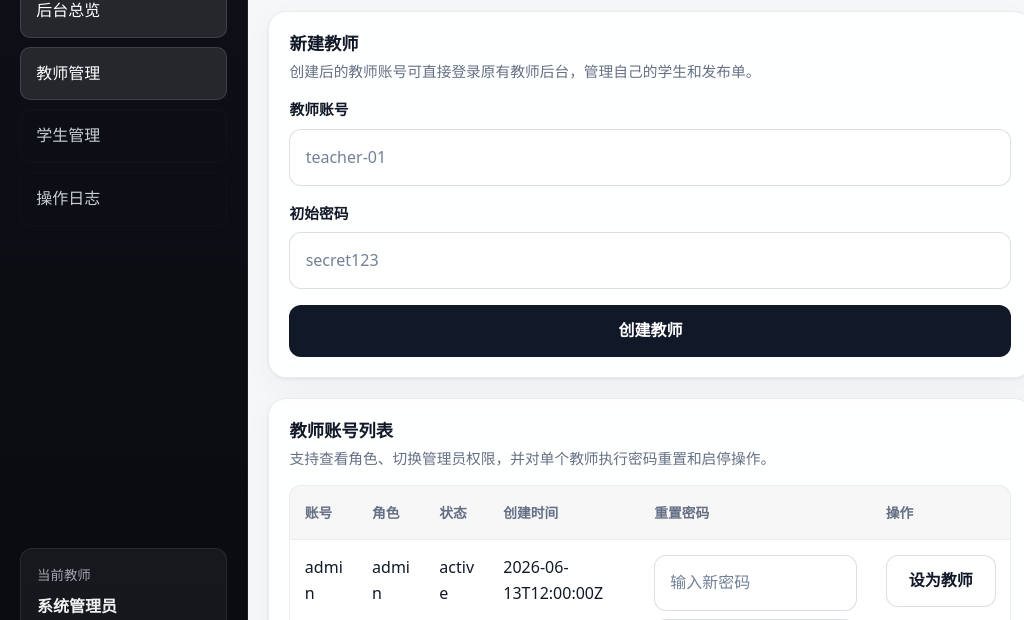
Test: AdminTeachersView › renders managed teachers and allows creating and disabling a teacher
The width and height of the screenshot is (1024, 620).
Type "teacher-1" into the field named "teacher-username".
click(650, 157); type("teacher-1")  # box [290,129,1012,186]
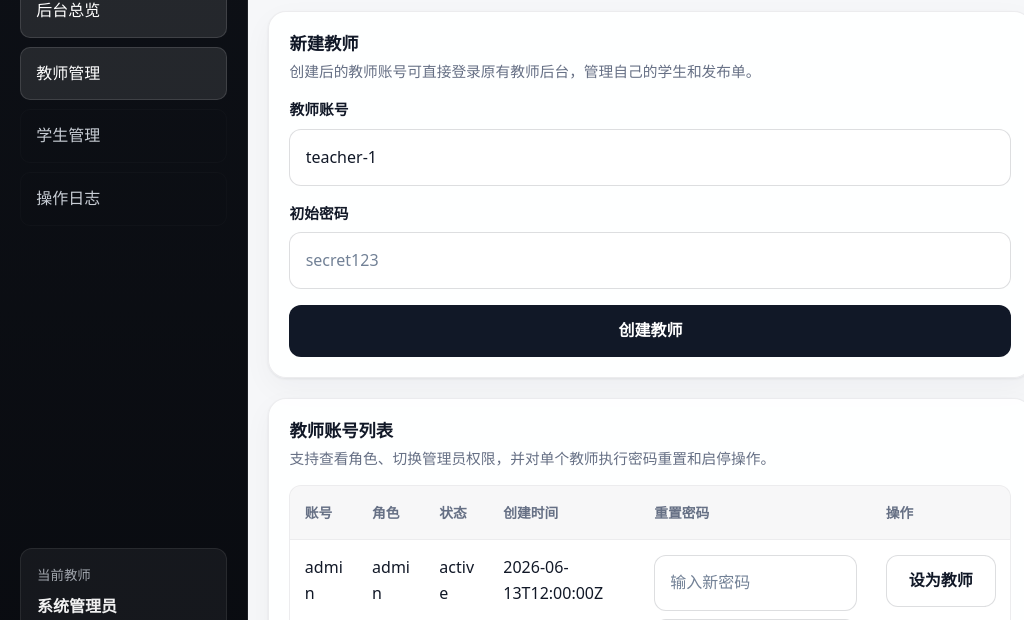
Type "secret123" into the password field named "teacher-password".
click(650, 260); type("secret123")  # box [290,232,1012,289]
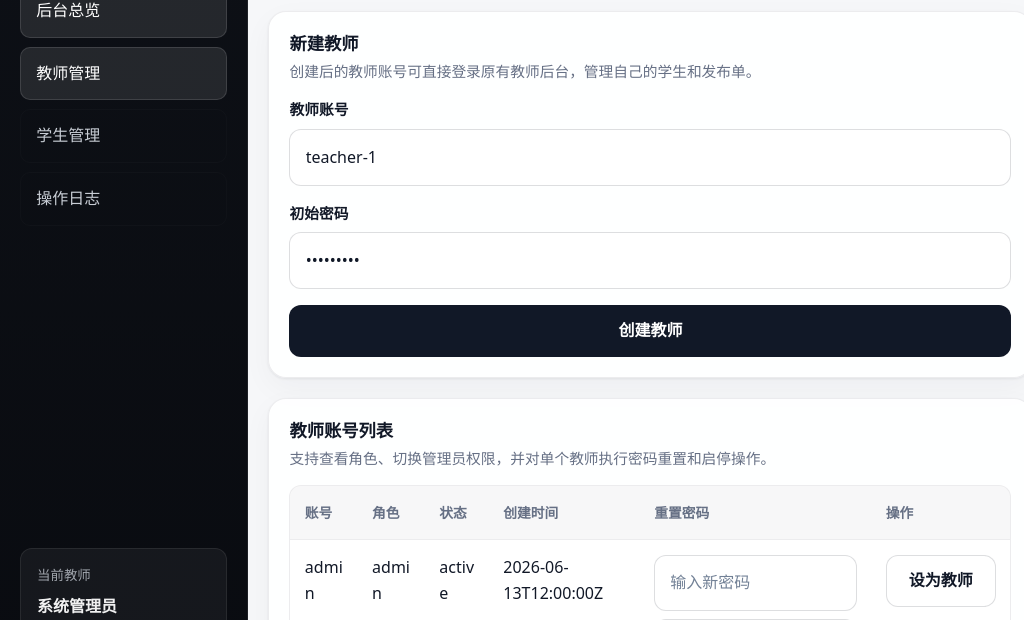
Submit the form with test id "create-teacher-form", box [290,98,1012,357]
(page scrolled)
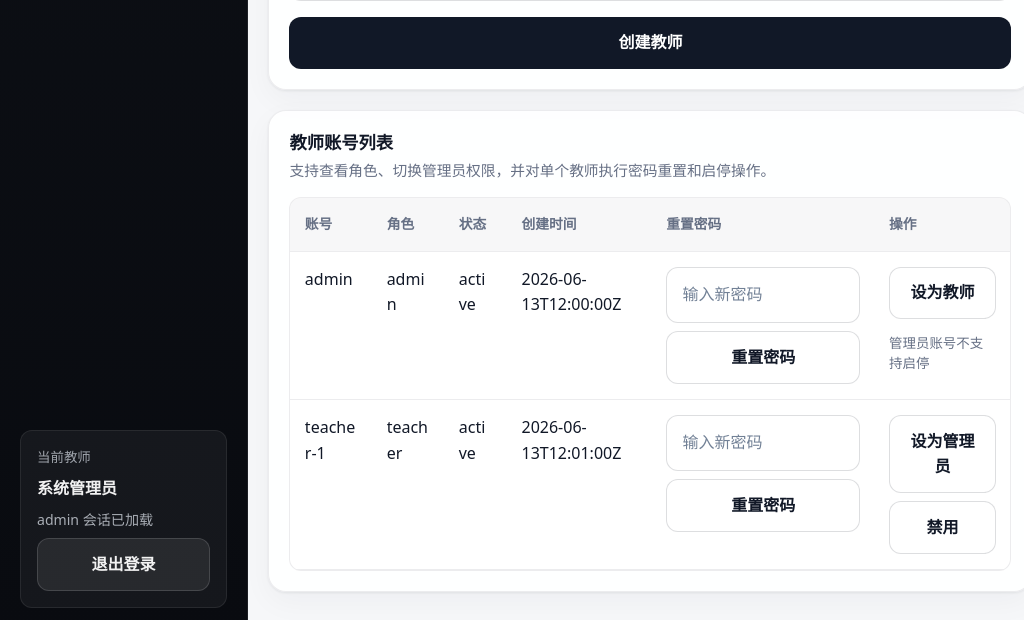
Click the button with test id "teacher-disable-2".
click(943, 527)  # box [889,501,996,554]
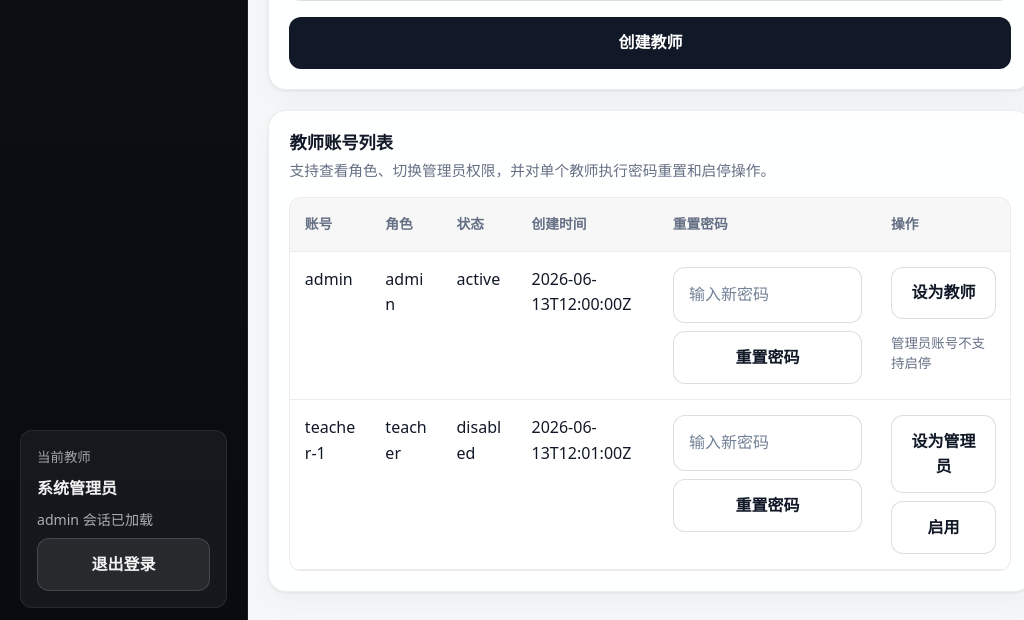
Now the text "teacher-1" is shown, box [290,399,371,569]
Now the text "disabled" is shown, box [442,399,517,569]
